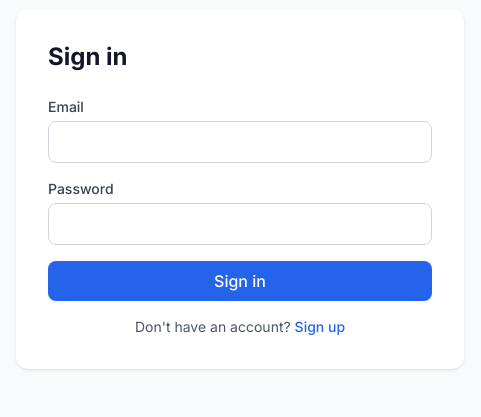
LoginPage › shows a fallback error when the API error has no message
Type "user@example.com" into the field labelled "Email" at (240, 142), box [48,121,432,163]
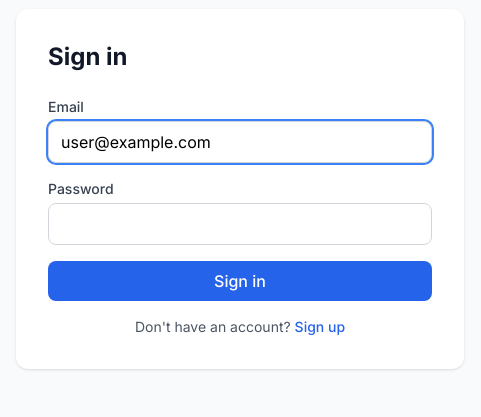
Type "somepass" into the password field labelled "Password" at (240, 224), box [48,203,432,245]
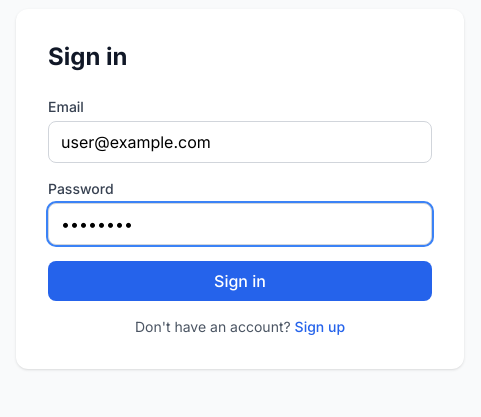
Submit the form "Email Password Sign in", box [48,97,432,301]
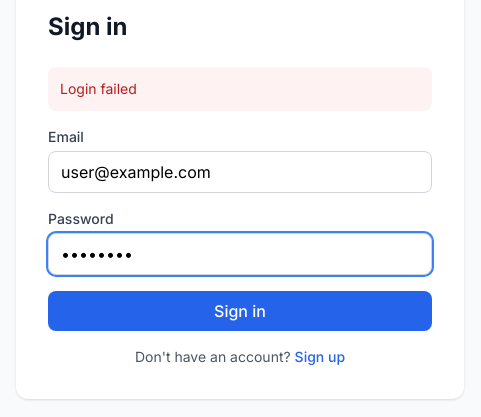
Expected: the text "Login failed" is shown, [48,67,432,111]
